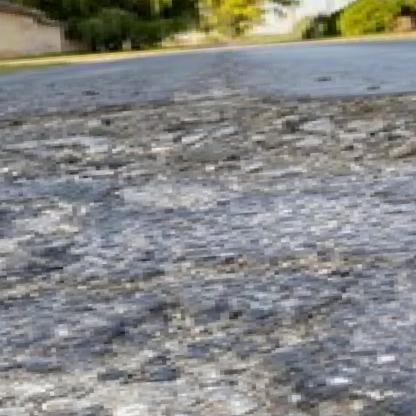pothole: (0, 67, 416, 205), (32, 307, 308, 416)
